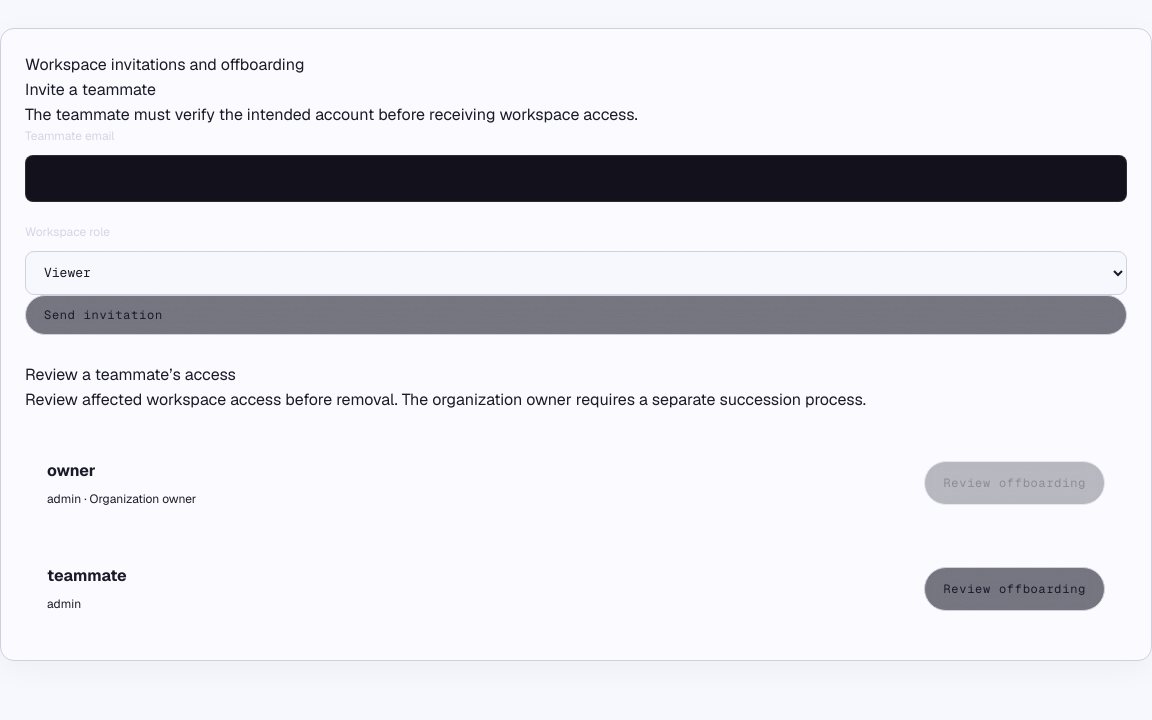
Test: shows retained ownership and retries an uncertain execution with the same key before refreshing membership
Expected: the button "Review offboarding" in the row of "· Organization owner" is disabled, [924, 462, 1105, 506]
Click the 2nd button "Review offboarding".
click(1015, 589)  # box [924, 567, 1105, 611]
(page scrolled)
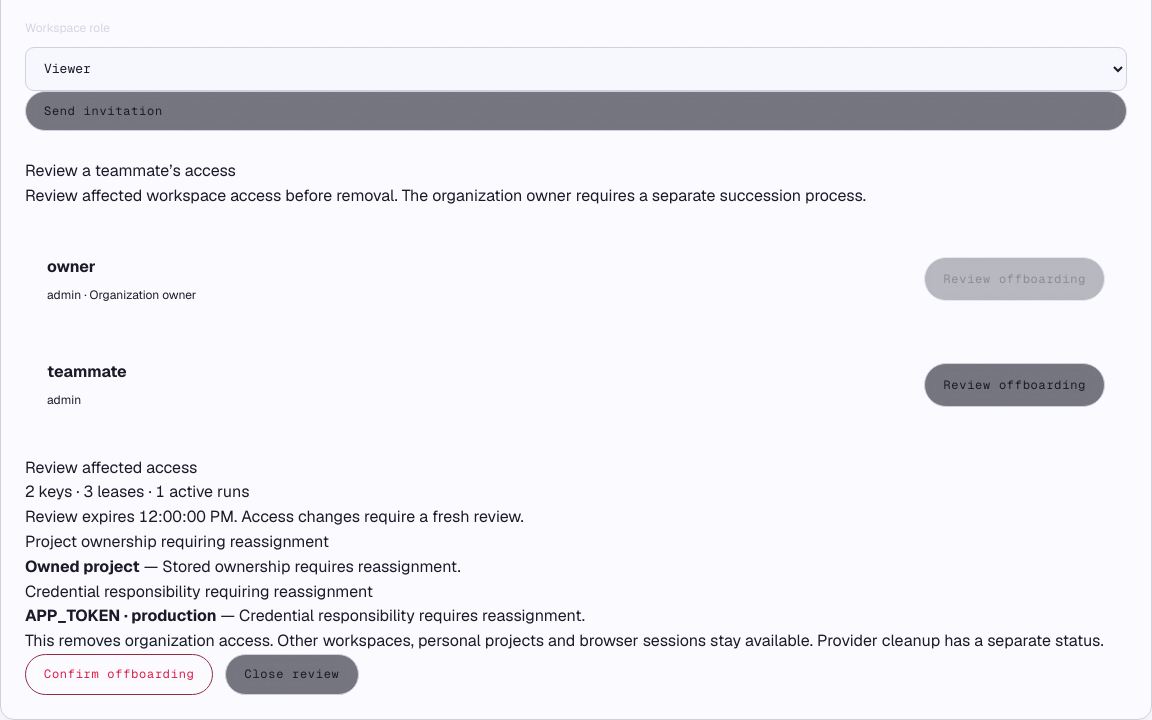
Expected: the heading "Review affected access" is shown, [25, 456, 197, 478]
Expected: the text "Owned project" is shown, [25, 556, 140, 577]
Expected: the text "APP_TOKEN · production" is shown, [25, 605, 217, 626]
Click the button "Confirm offboarding".
click(119, 674)  # box [25, 654, 214, 694]
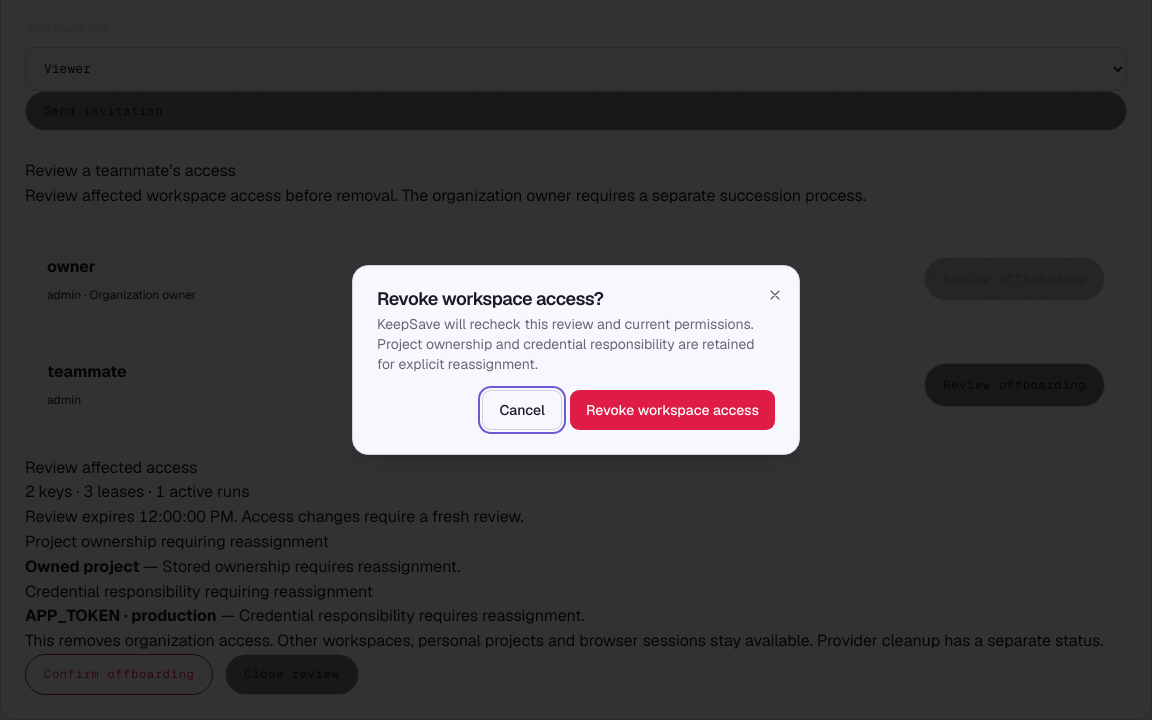
Click the button "Revoke workspace access".
click(672, 410)  # box [570, 390, 775, 430]
(page scrolled)
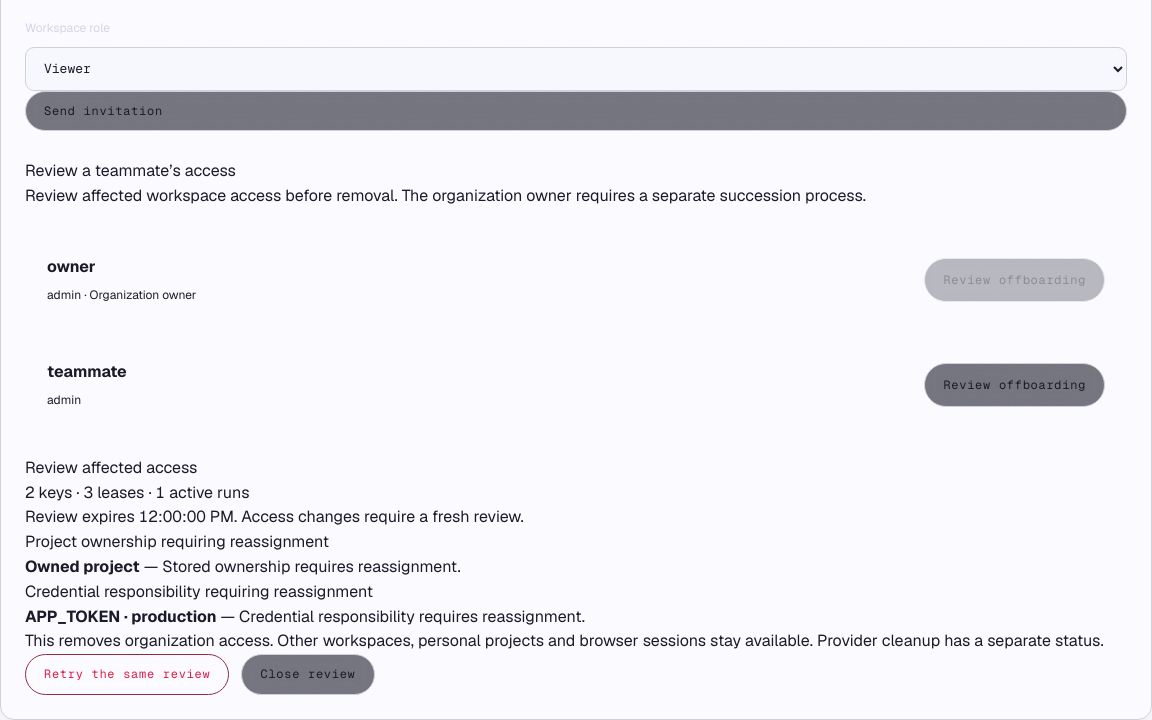
Click the button "Retry the same review".
click(127, 674)  # box [25, 654, 229, 695]
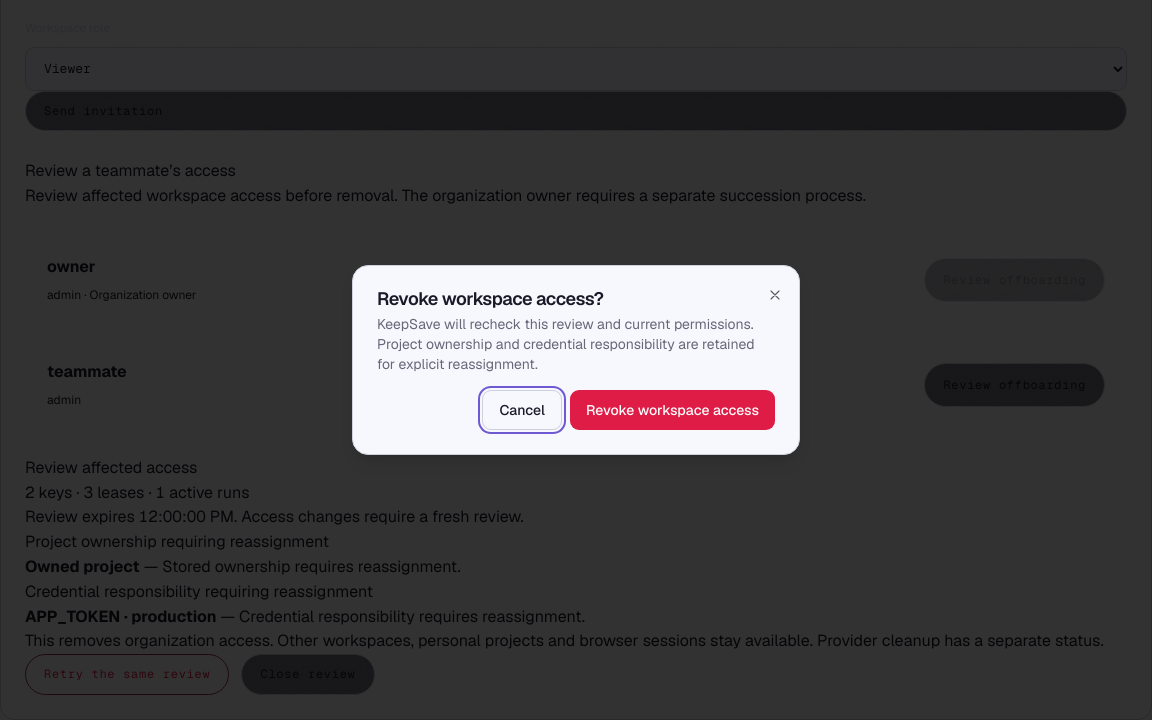
Click the button "Revoke workspace access".
click(672, 410)  # box [570, 390, 775, 430]
(page scrolled)
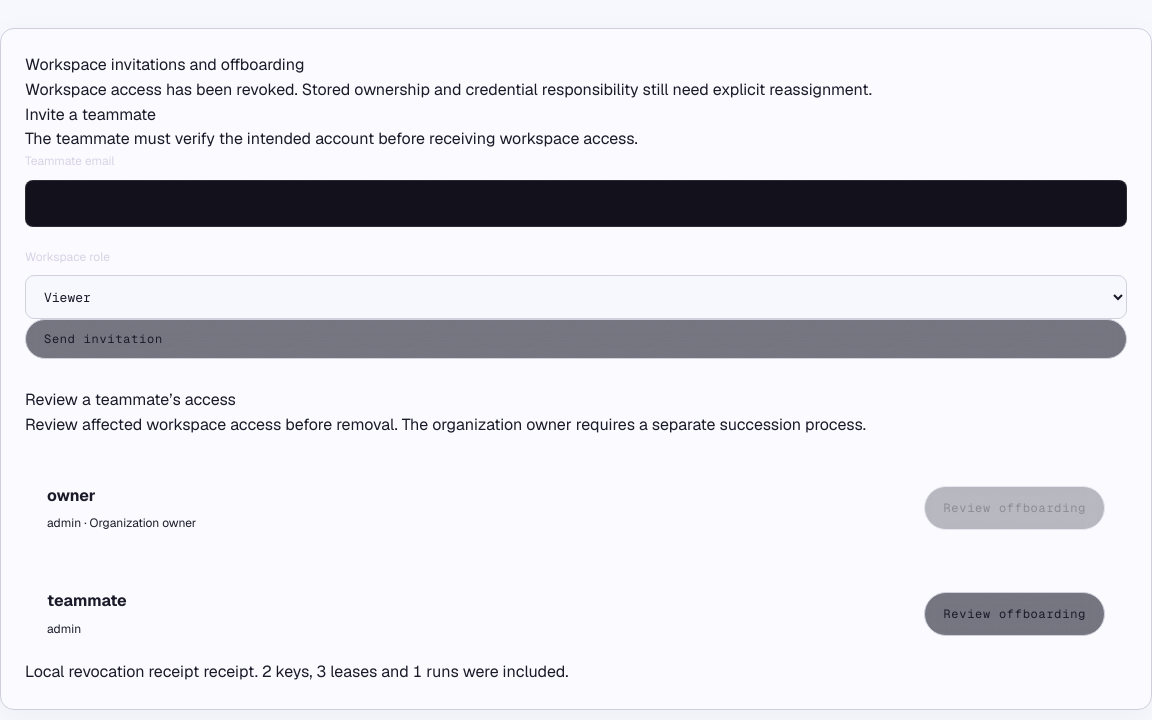
Expected: the text "Local revocation receipt receipt. 2 keys, 3 leases and 1 runs were included." is shown, [25, 661, 568, 682]
